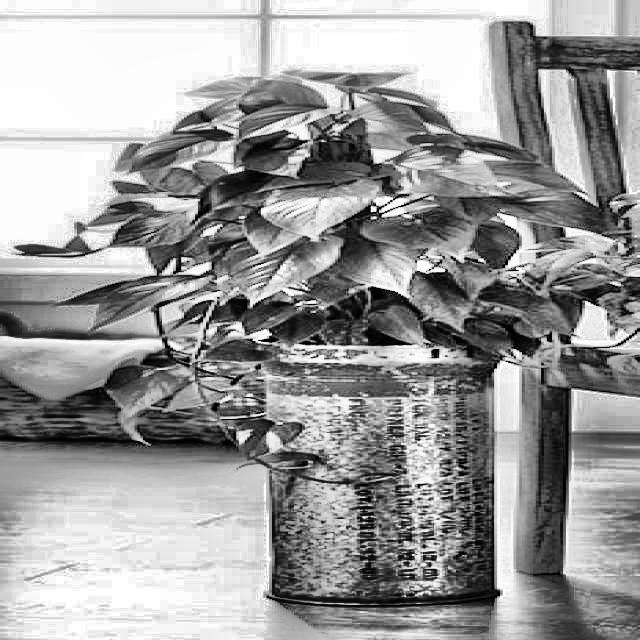plants: (108, 69, 602, 596)
